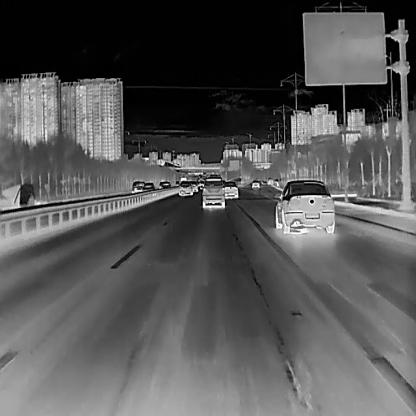car: (274, 179, 334, 232), (201, 177, 224, 206), (177, 179, 192, 194), (224, 182, 237, 198), (131, 180, 144, 192), (141, 181, 154, 192), (251, 178, 259, 188)
